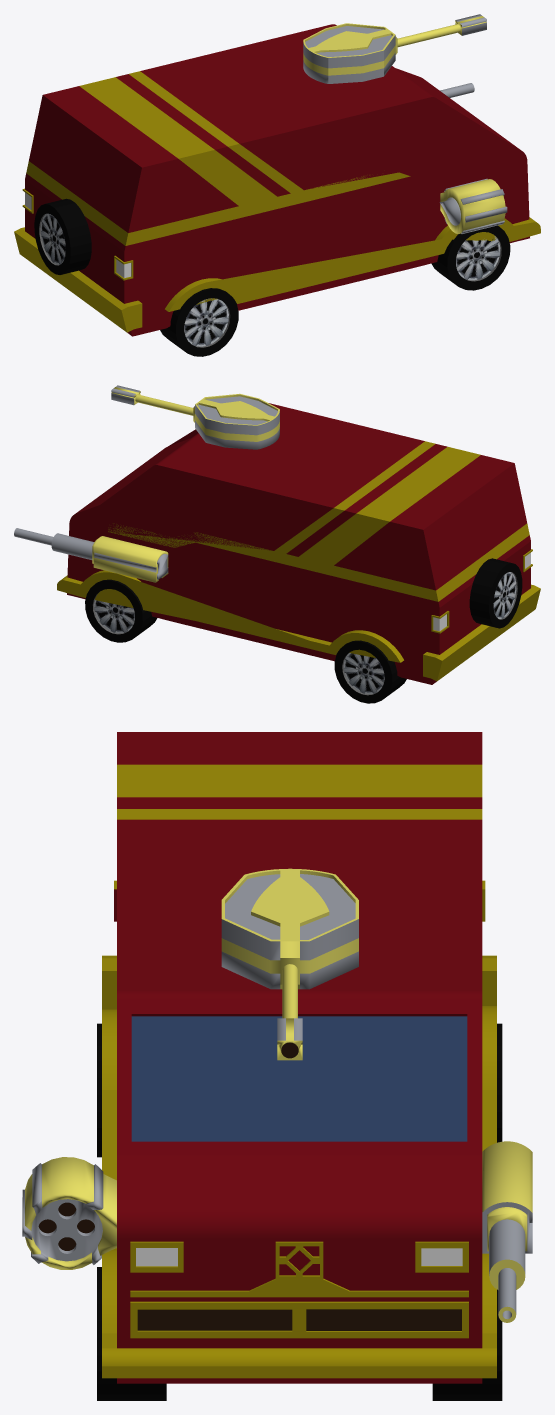
File: Dante.fbx
The picture shows the model from 3 angles, top to bottom: view 1: azimuth 30°, elevation 25°; view 2: azimuth 150°, elevation 25°; view 3: azimuth 270°, elevation 25°; orthographic projection. The views are drawn at different scales.
Visible parts, largest first — view 1: Group4, skp6818_1, skpD442_2, skpD442_5, skpD442_1, skp9D89_1; view 2: Group4, skp6818_1, skp5945_1, skpD442_4, skpD442_5, skpD442_3; view 3: Group4, skp6818_1, skp9D89_1, skp5945_1, skpD442_1, skpD442_3.
Part boxes in pixels (<box>): Group4: <box>14,24,540,336</box>; skp6818_1: <box>303,14,486,83</box>; skpD442_2: <box>160,288,238,356</box>; skpD442_5: <box>34,198,91,274</box>; skpD442_1: <box>431,225,510,290</box>; skp9D89_1: <box>439,178,507,233</box>; Group4: <box>57,403,540,684</box>; skp6818_1: <box>111,385,279,449</box>; skp5945_1: <box>14,528,168,582</box>; skpD442_4: <box>334,640,406,703</box>; skpD442_5: <box>469,558,522,628</box>; skpD442_3: <box>85,579,157,642</box>; Group4: <box>102,732,496,1383</box>; skp6818_1: <box>221,868,358,1060</box>; skp9D89_1: <box>22,1157,116,1269</box>; skp5945_1: <box>482,1141,532,1322</box>; skpD442_1: <box>97,1267,166,1400</box>; skpD442_3: <box>432,1289,502,1400</box>.
Bounding box in the file's own units: 3.4 × 1.56 × 1.72.
